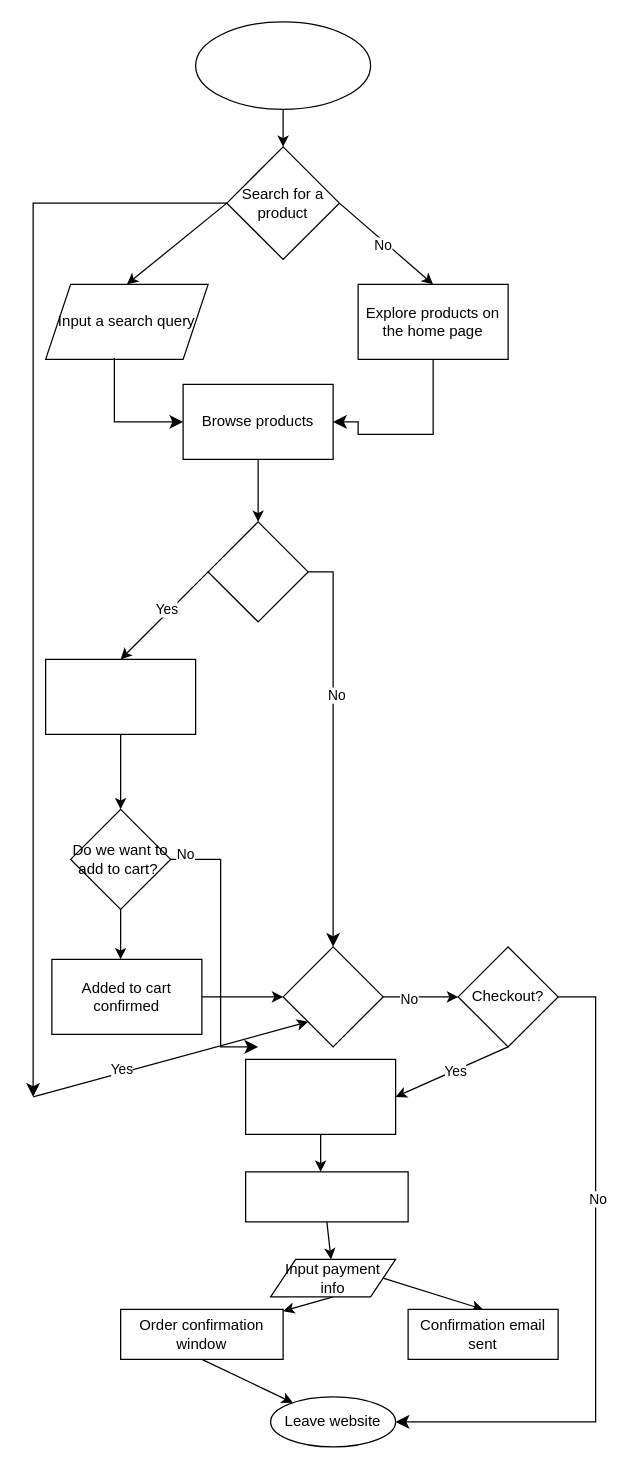
Some shapes in this 630 by 1469 pixel diagram are drawn without their labels. The shapes that lost their labels are listed below. From the top down, each one's centre as x and y in pixels, then its label:
At point 282,65: "Enter website".
At point 257,571: "View a specific product?".
At point 120,696: "Open the product webpage".
At point 332,996: "Do we want to continue shopping?".
At point 320,1096: "View the cart screen".
At point 326,1196: "View payment window".
